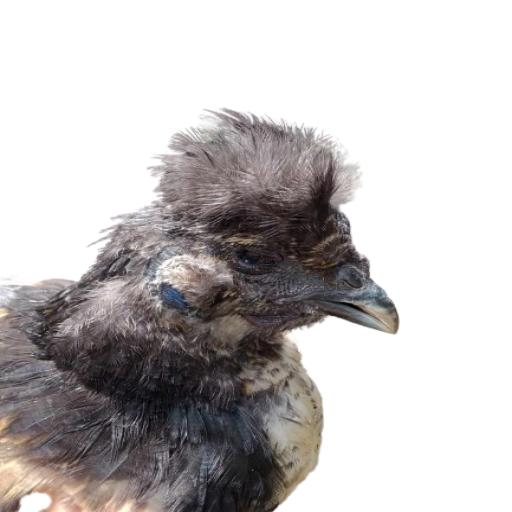disease: (150, 210, 330, 354)
